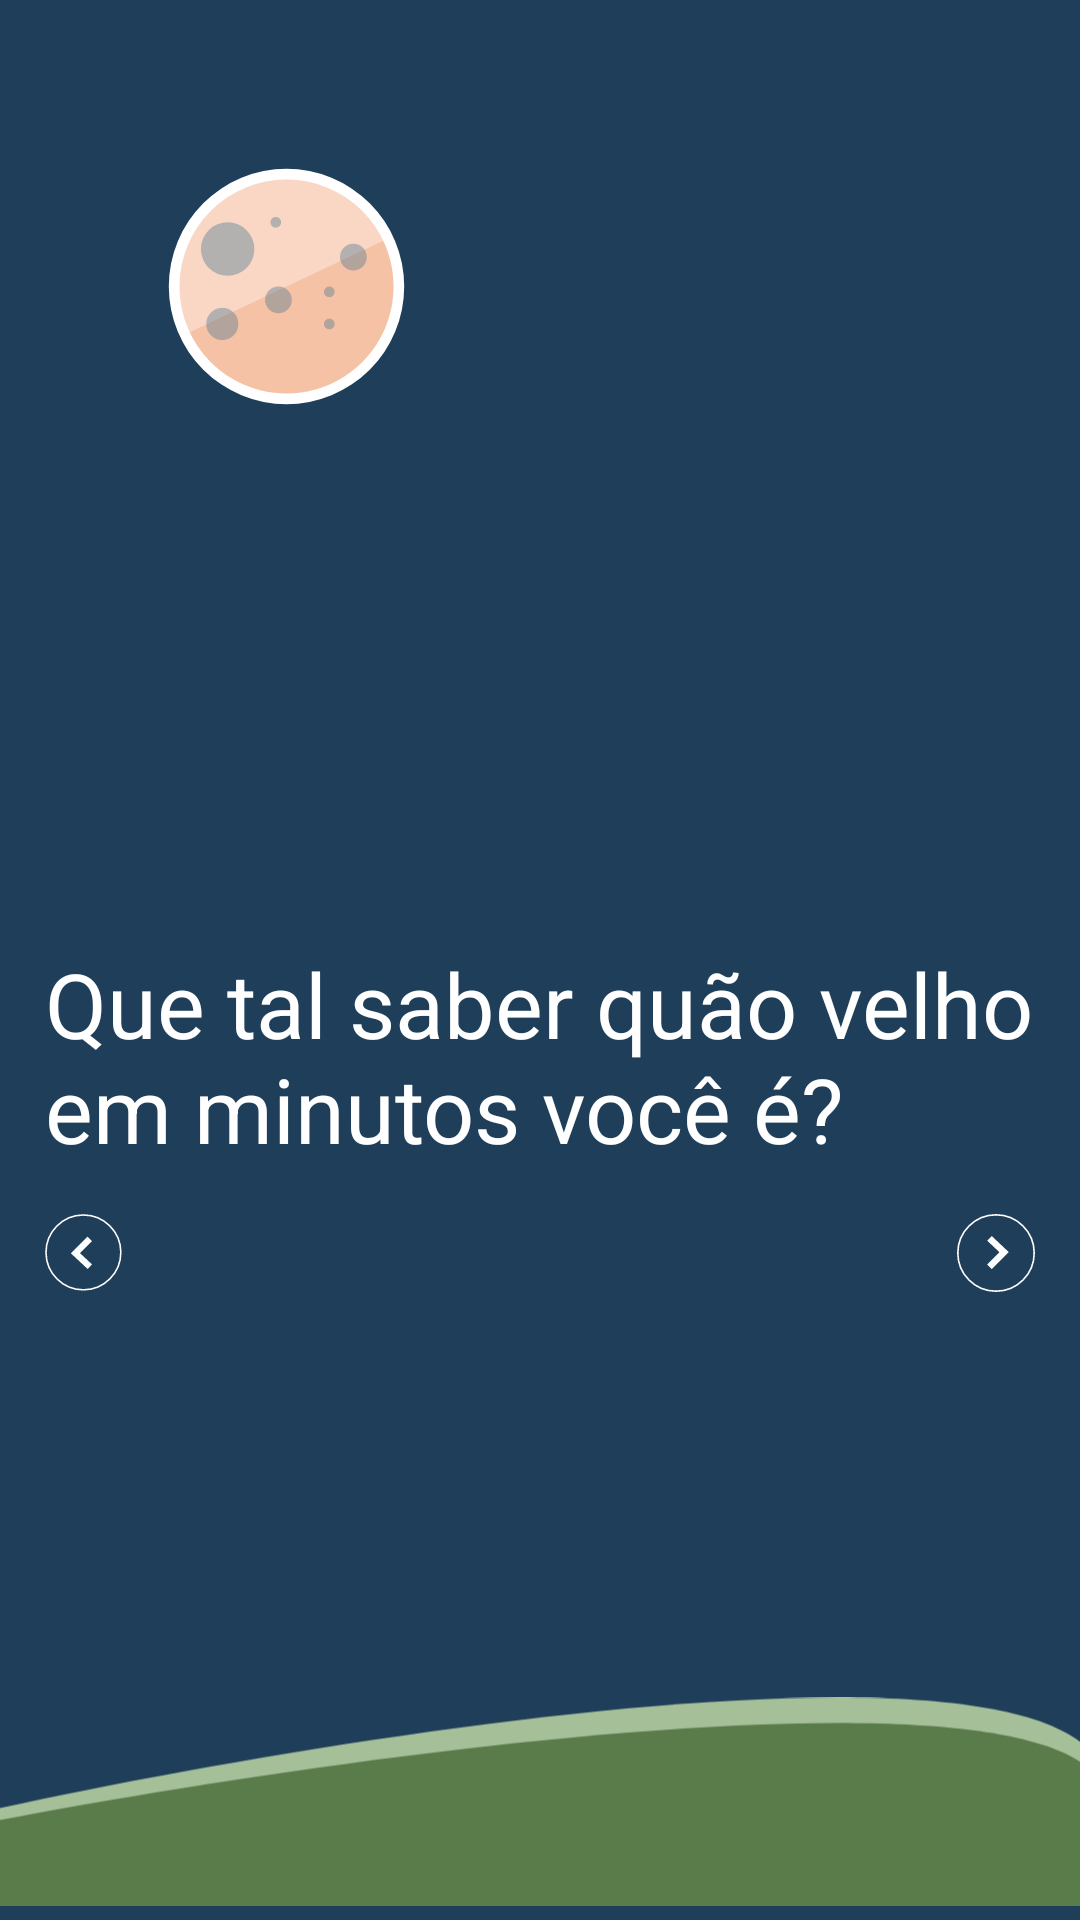

Icon bounding boxes for this 1080 × 1920 phone screenshot, format (x1, y1, x2, y2):
back: (45, 1214, 122, 1291)
moon: (168, 168, 405, 405)
next: (957, 1214, 1035, 1292)
